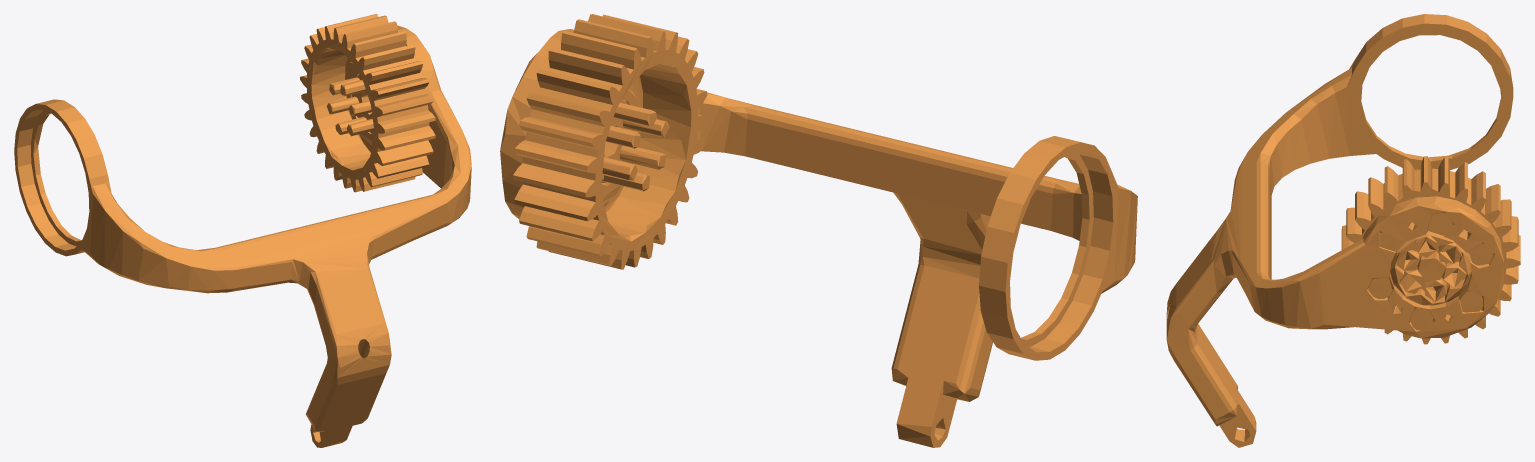
Rendered from gripper_motor_single.dae.
The picture shows the model from 3 angles, left to right: view 1: azimuth 30°, elevation 25°; view 2: azimuth 150°, elevation 25°; view 3: azimuth 270°, elevation 25°; orthographic projection. The views are drawn at different scales.
Parts seen in each view (by area): view 1: gripper_motor_single; view 2: gripper_motor_single; view 3: gripper_motor_single.
Boxes of the visible parts, x1,y1,x2,y2 form: gripper_motor_single: (14, 14, 471, 447); gripper_motor_single: (500, 14, 1137, 447); gripper_motor_single: (1166, 14, 1520, 447).
Bounding box in the file's own units: 0.1056 × 0.086 × 0.0908.
